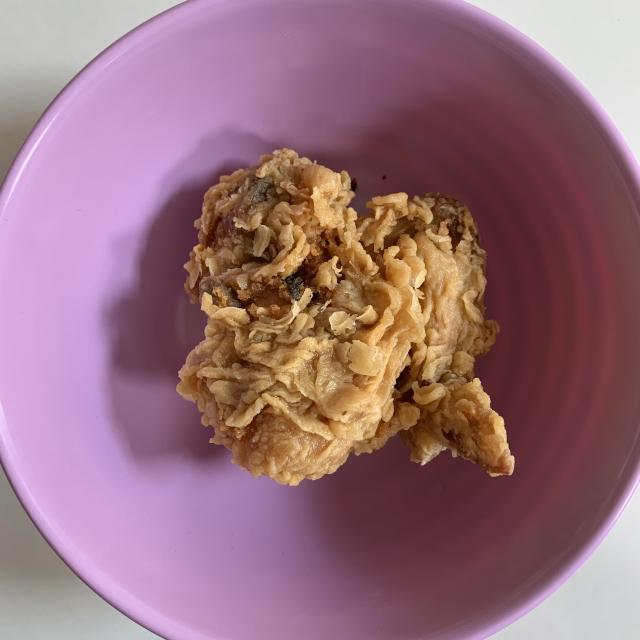Wet Waste: (178, 147, 514, 486)
